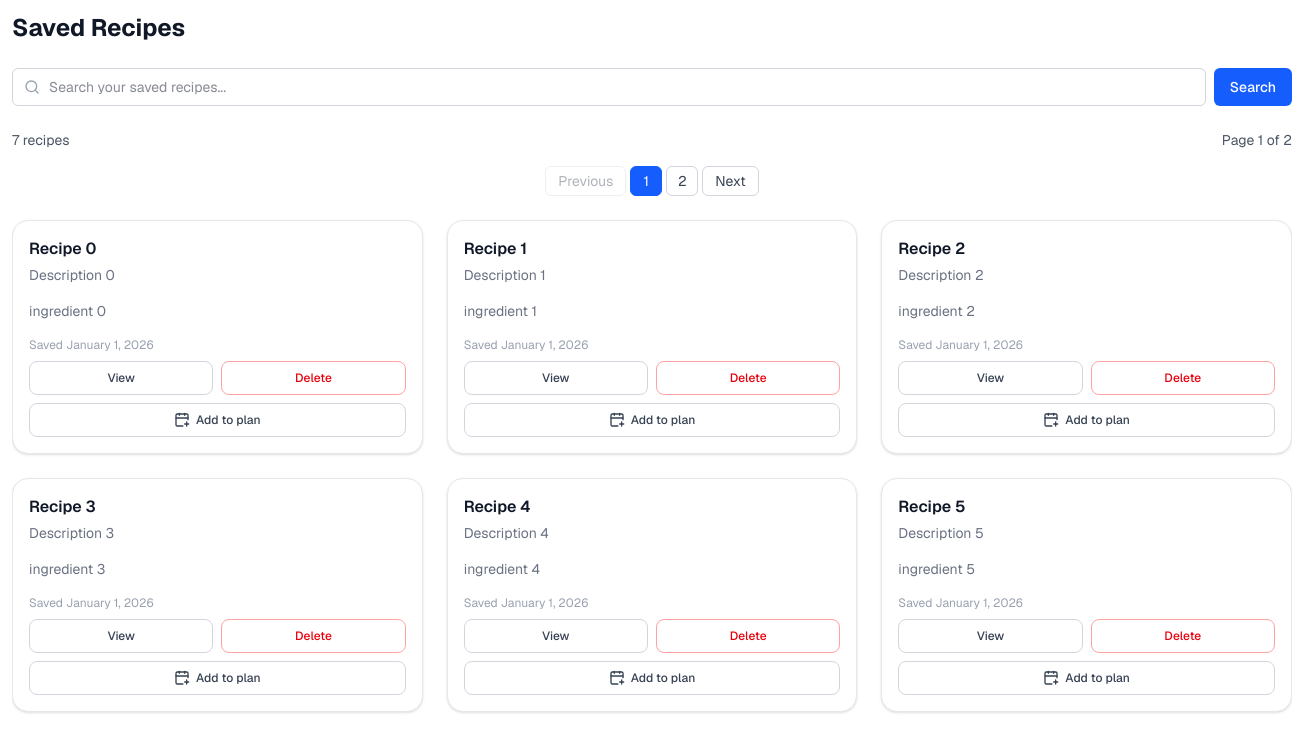
Test: RecipesPage › clamps to the last page when the requested page is out of range
expect the text "Page 1 of 2" is shown: met, box [1222,130,1292,150]
Click the button named "Go to page 2" at (682, 181), box [666,166,698,196]
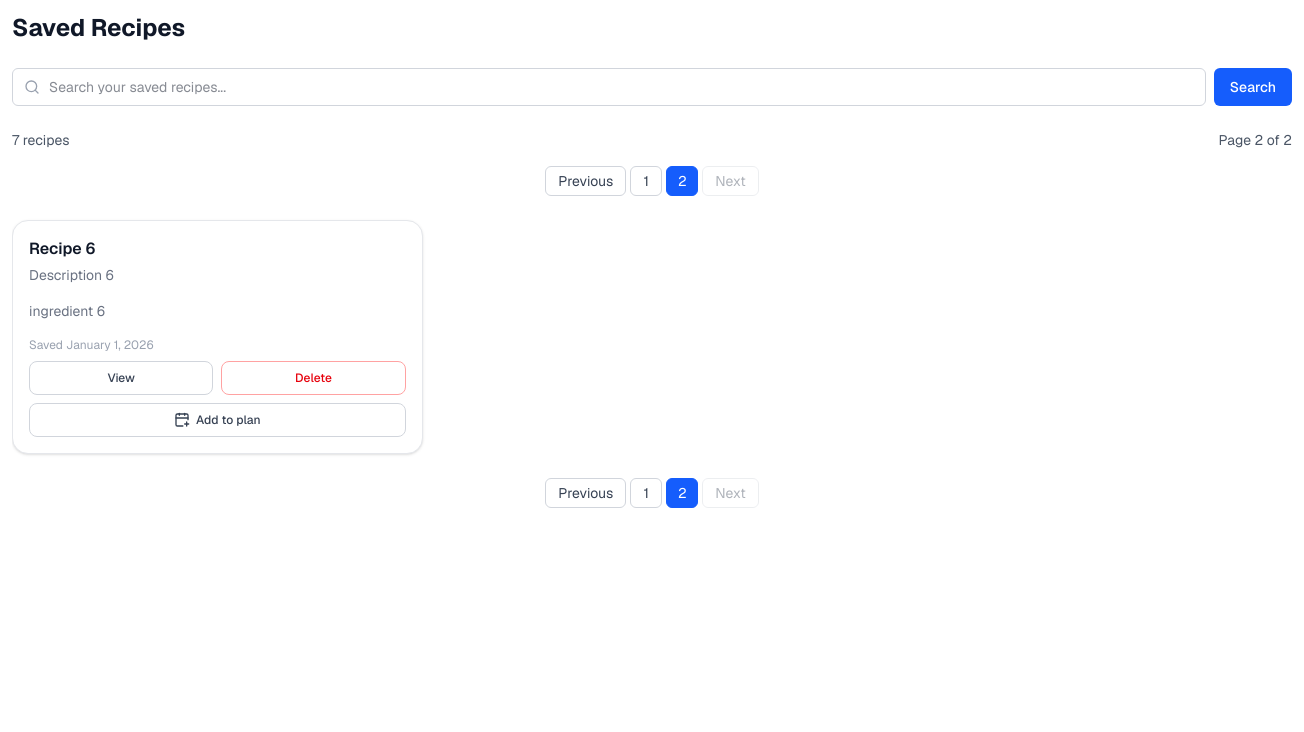
expect the link "View" is shown: met, box [29,361,213,395]
expect the text "Page 2 of 2" is shown: met, box [1219,130,1292,150]
